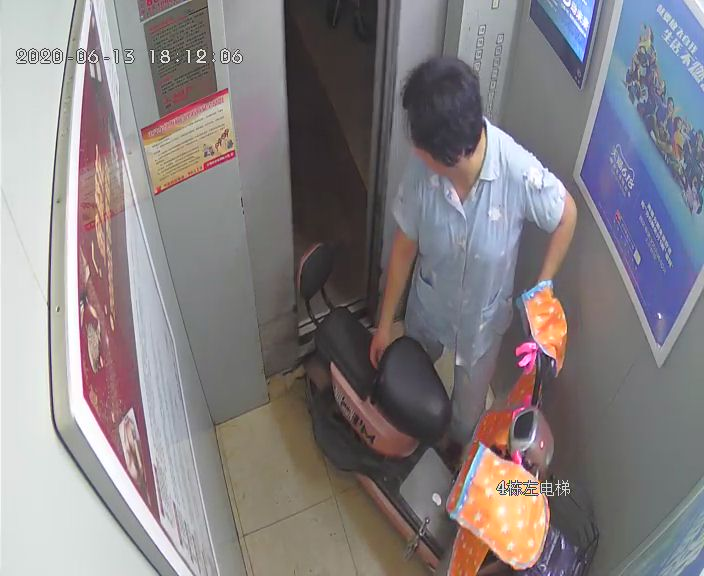Electric-bicycle: (293, 239, 599, 576)
